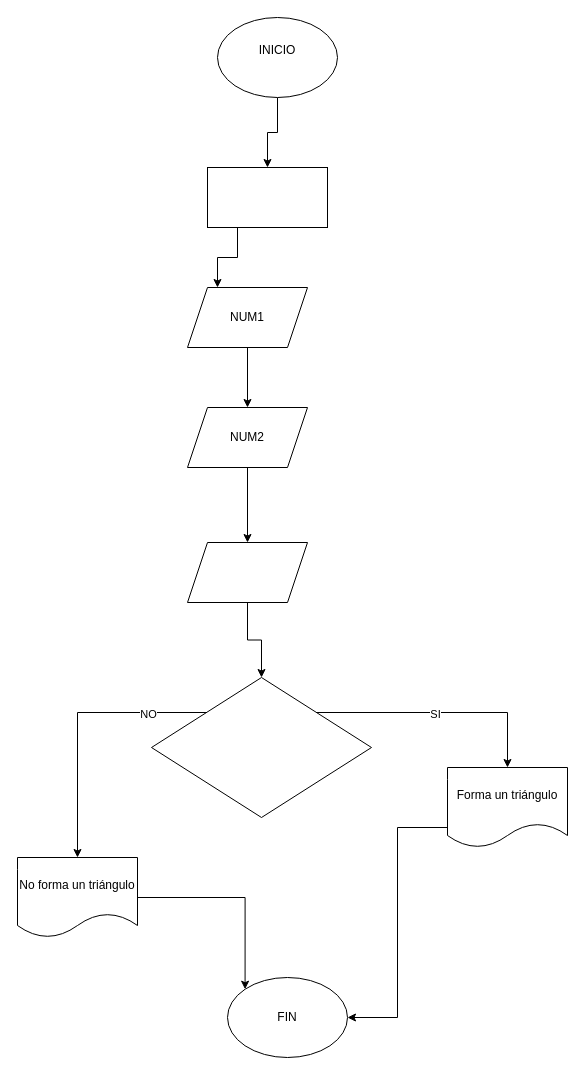
The diagram is 585 pixels wide and 1075 high, and some of its shapes have lost their labels. The shapes that lost their labels are listed below. From the top down, each one's box as (x1, y1, x2, y2) in pixels, then its label:
(206, 166, 328, 228): NUM1, NUM2, NUM3
(186, 542, 308, 602): NUM3
(150, 676, 372, 818): num1 + num2 > num3 Y num1 + num3 > num2 Y num2 + num3 > num1
